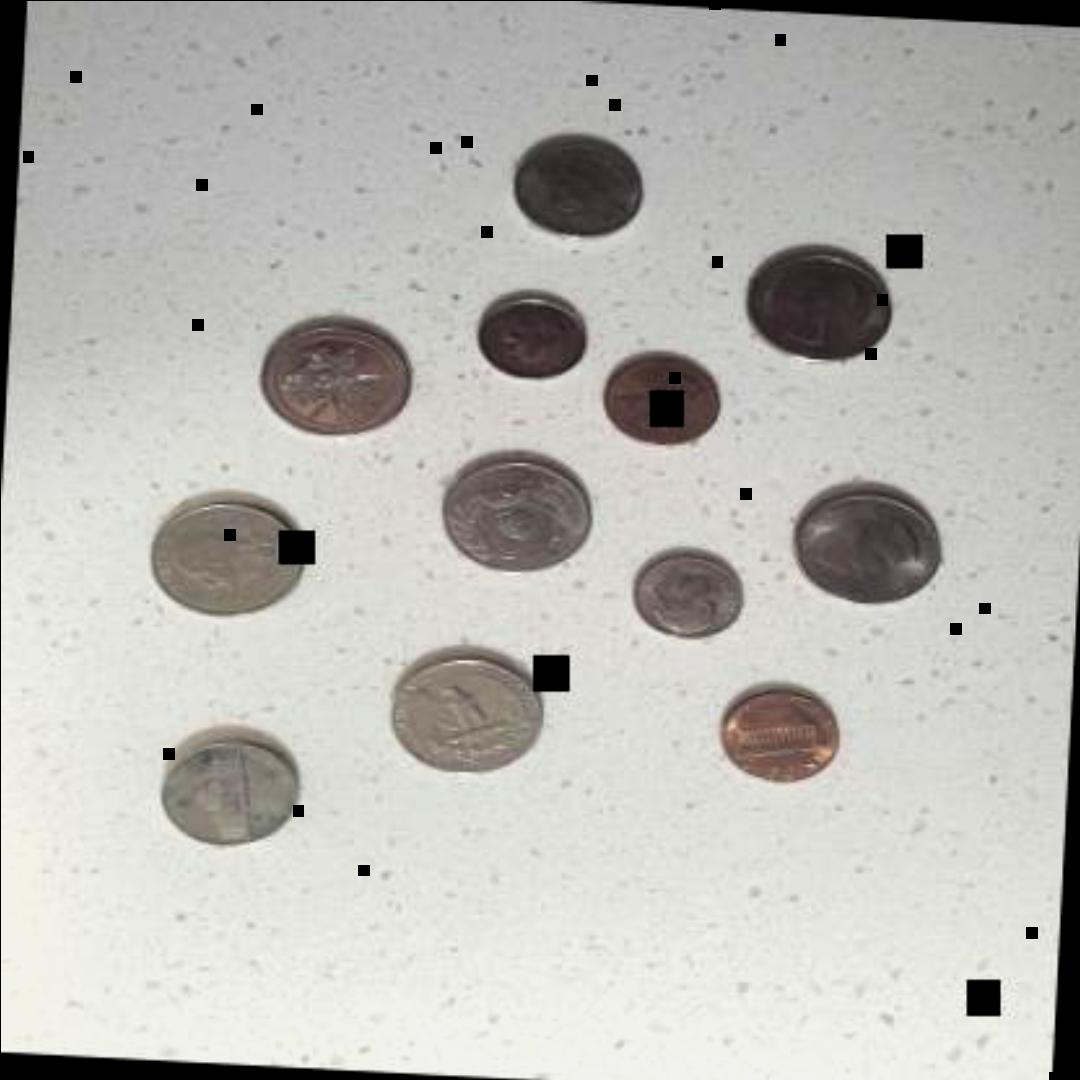Dime: (624, 546, 752, 648), (469, 295, 593, 383)
Nickel: (144, 736, 310, 852), (505, 132, 647, 244)
Penny: (706, 686, 846, 788), (597, 347, 729, 453)
Quarter: (368, 628, 564, 782), (138, 484, 318, 624), (775, 466, 943, 612), (430, 443, 598, 583), (245, 312, 416, 440), (736, 240, 902, 370)
